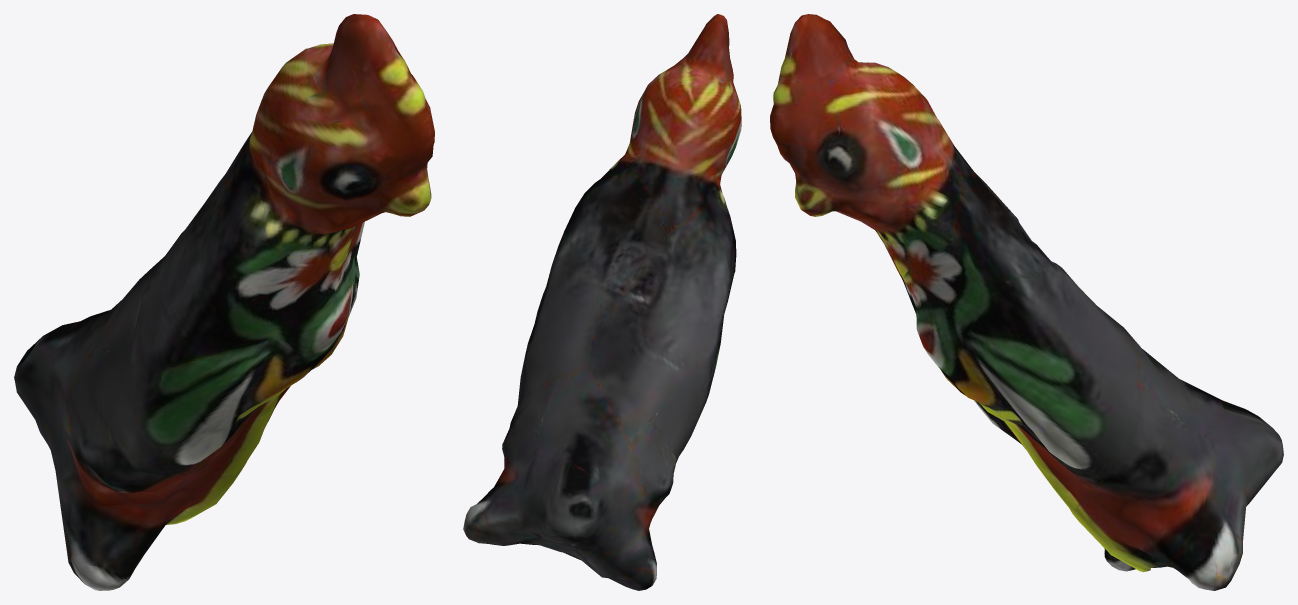
File: hall.glb
3 renders of one model, left to right at view 1: azimuth 30°, elevation 25°; view 2: azimuth 150°, elevation 25°; view 3: azimuth 270°, elevation 25°, orthographic. The views are drawn at different scales.
Size of the model in its own units: 0.315 by 0.8856 by 0.7073.
Materials: 1 (1 with a texture image).
